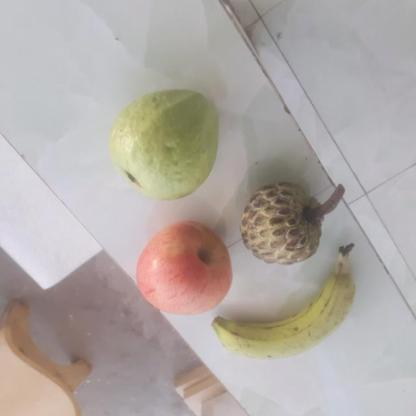annona: (236, 181, 330, 266)
apple: (132, 223, 234, 316)
banana: (204, 254, 363, 356)
guava: (104, 88, 218, 197)
